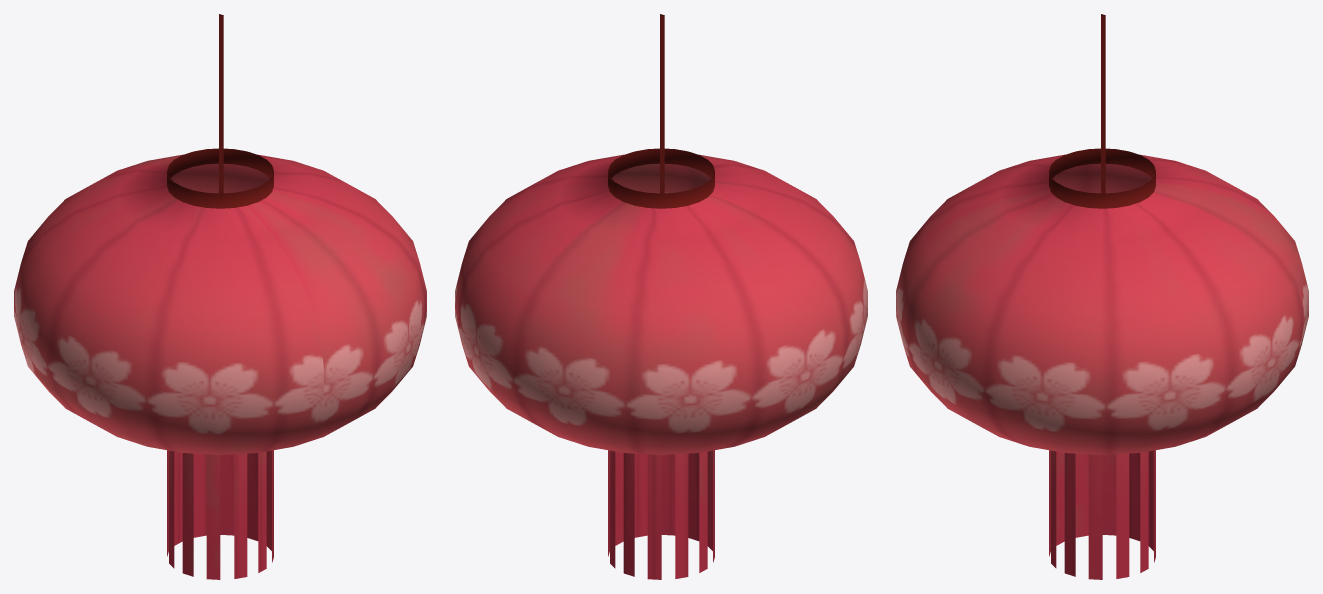
The model's file is SM_Lamp_03.fbx.
3 renders of one model, left to right at view 1: azimuth 30°, elevation 25°; view 2: azimuth 150°, elevation 25°; view 3: azimuth 270°, elevation 25°, orthographic.
Visible parts, largest first — view 1: SM_Lamp_03; view 2: SM_Lamp_03; view 3: SM_Lamp_03.
Boxes of the visible parts, x1,y1,x2,y2 form: SM_Lamp_03: (14, 14, 426, 579); SM_Lamp_03: (455, 14, 867, 579); SM_Lamp_03: (896, 14, 1308, 579).
Size of the model in its own units: 87.89 by 127 by 87.89.
